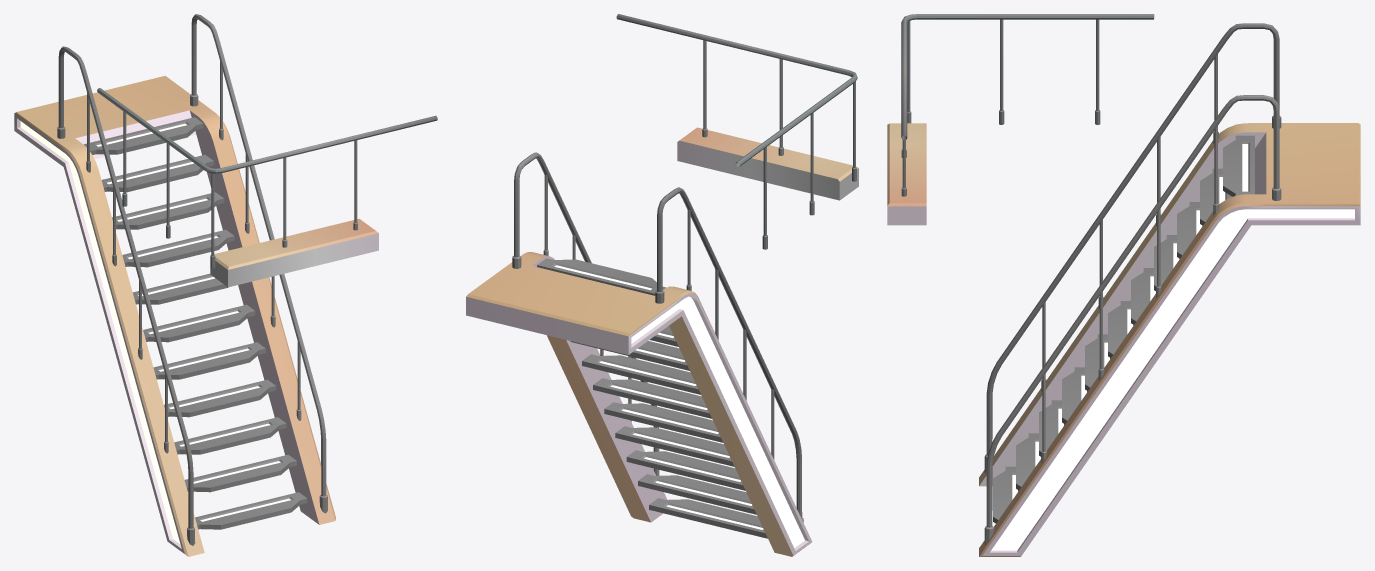
Rendered from Stairs_Intermed.fbx.
3 views of the same model, side by side, from view 1: azimuth 30°, elevation 25°; view 2: azimuth 150°, elevation 25°; view 3: azimuth 270°, elevation 25° (orthographic). The views are drawn at different scales.
Visible parts, largest first — view 1: Stairs_Intermed; view 2: Stairs_Intermed; view 3: Stairs_Intermed.
Boxes of the visible parts, left/top/right/bottom form: Stairs_Intermed: left=14, top=14, right=437, bottom=556; Stairs_Intermed: left=466, top=14, right=858, bottom=556; Stairs_Intermed: left=887, top=14, right=1360, bottom=556.
Size of the model in its own units: 245 by 427 by 400.
